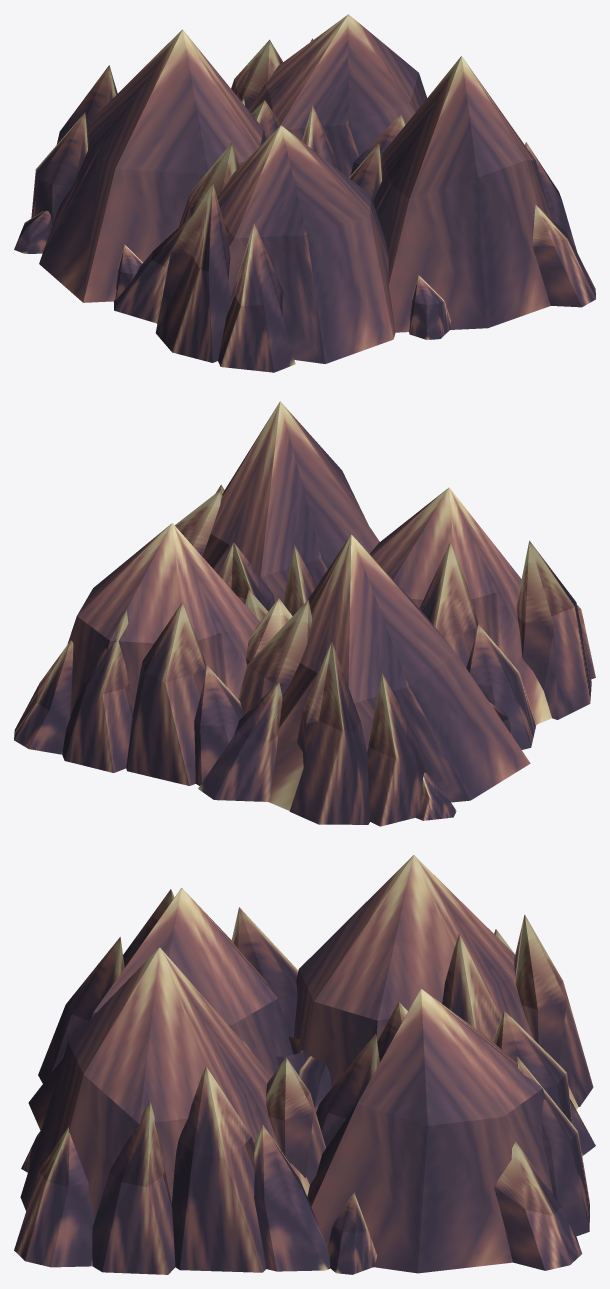
File: Poly_World_Map_Mountain_01_B_Multiple.obj
3 views of the same model, one above another, from view 1: azimuth 30°, elevation 25°; view 2: azimuth 150°, elevation 25°; view 3: azimuth 270°, elevation 25° (orthographic). The views are drawn at different scales.
Parts seen in each view (by area): view 1: Grid.002, Grid.004, Grid.001, Grid.003; view 2: Grid.001, Grid.003, Grid.002, Grid.004; view 3: Grid.004, Grid.003, Grid.001, Grid.002.
Boxes of the visible parts, x1,y1,x2,y2 form: Grid.002: [113, 125, 395, 372]; Grid.004: [349, 56, 595, 340]; Grid.001: [14, 29, 265, 302]; Grid.003: [231, 14, 426, 177]; Grid.001: [198, 534, 530, 826]; Grid.003: [14, 523, 292, 785]; Grid.002: [370, 487, 595, 749]; Grid.004: [175, 401, 379, 615]; Grid.004: [14, 947, 330, 1274]; Grid.003: [307, 988, 589, 1274]; Grid.001: [294, 855, 595, 1155]; Grid.002: [28, 888, 306, 1130].
Bounding box in the file's own units: 1.8 × 0.93 × 1.83.
Materials: 1 (1 with a texture image).
